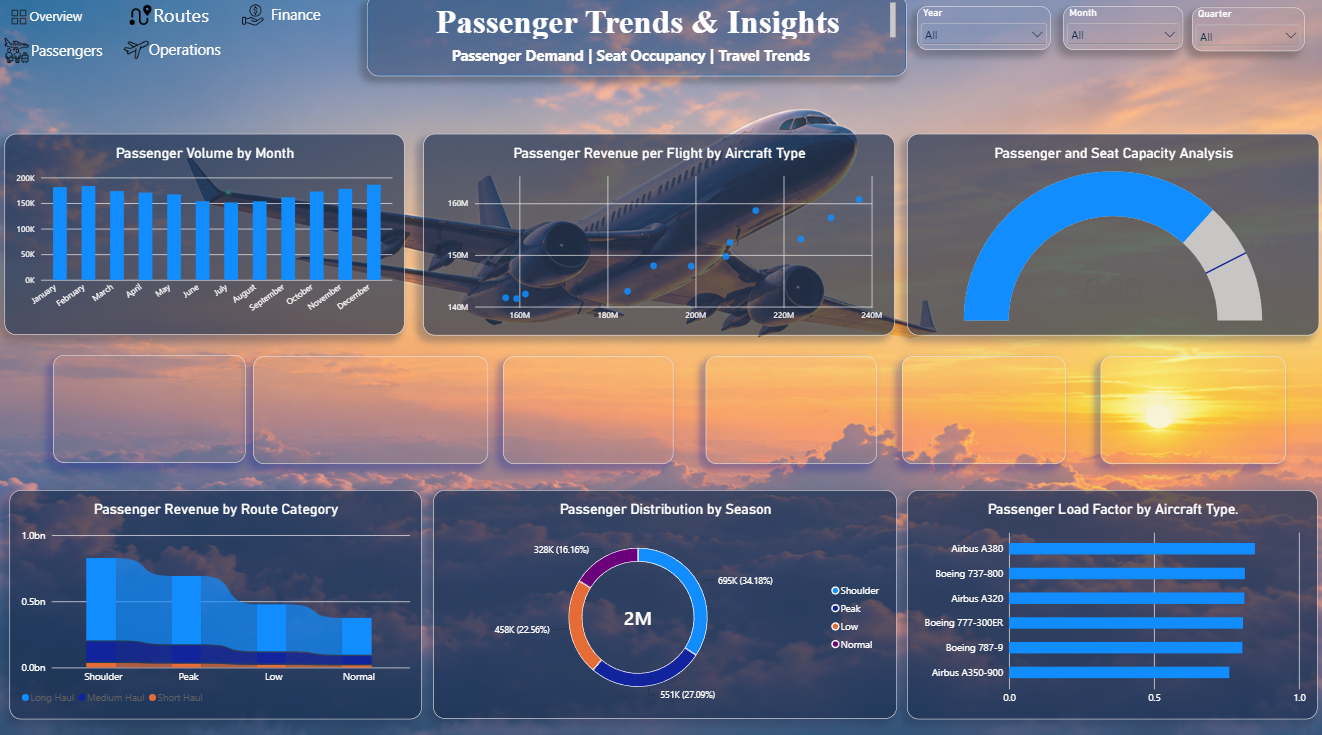

The page's visual inventory and layout, read from the dashboard file:
{"tool":"powerbi","page":{"name":"Passenger Trends & Insights","canvas":[1920,1080],"ordinal":3},"visuals":[{"type":"ribbonChart","title":"Passenger Revenue by Route Category","fields":{"Category":["airline_route_profitability_cleaned.Season"],"Series":["route_details.Route_Category"],"Y":["Sum(airline_route_profitability_cleaned.Total_Revenue)"]},"box":[18.8,715.8,596.9,331.8],"z":0},{"type":"donutChart","title":"Passenger Distribution by Season","fields":{"Category":["airline_route_profitability_cleaned.Season"],"Series":["airline_route_profitability_cleaned.Season"],"Y":["Sum(airline_route_profitability_cleaned.Passengers)"]},"box":[631.6,716.6,671.4,331.2],"z":1000},{"type":"clusteredBarChart","title":"Passenger Load Factor by Aircraft Type.","fields":{"Category":["airline_route_profitability_cleaned.Aircraft_Type"],"Y":["calculation_tbl.Avg_load_factor"]},"box":[1316.9,715.8,594.8,331.8],"z":2000},{"type":"cardVisual","fields":{"Data":["calculation_tbl.Avg Passengers per Flight"]},"box":[371,523,340.2,155.6],"z":3000},{"type":"cardVisual","fields":{"Data":["Passenger Revenue.Available Seats"]},"box":[1310.6,523.8,237.1,155.6],"z":4000},{"type":"cardVisual","fields":{"Data":["calculation_tbl.Total Capacity"]},"box":[1026.8,523.8,247.9,155.6],"z":5000},{"type":"cardVisual","fields":{"Data":["calculation_tbl.avg_load_factor"]},"box":[732.5,523.8,246.1,155.6],"z":6000},{"type":"cardVisual","fields":{"Data":["Passenger Revenue.Passenger Revenue"]},"box":[1597.9,523,267.8,155.6],"z":7000},{"type":"shape","box":[535.7,0,781.8,117.6],"z":8000},{"type":"textbox","box":[561,10.9,740.2,52.5],"z":9000},{"type":"textbox","box":[649.7,72.4,535.7,34.4],"z":10000},{"type":"clusteredColumnChart","title":"Passenger Volume by Month","fields":{"Category":["Dim_Date.Flight_Date.Variation.Date Hierarchy.Month"],"Y":["calculation_tbl.Total passengers"]},"box":[10.9,200.9,579.1,291.4],"z":11000},{"type":"gauge","title":"Passenger and Seat Capacity Analysis","fields":{"Y":["calculation_tbl.Seat Utilization %"]},"box":[1316.9,200.3,596.9,292.2],"z":12000},{"type":"cardVisual","fields":{"Data":["calculation_tbl.total_passengers"]},"box":[81.4,521.7,278.7,155.6],"z":13000},{"type":"scatterChart","title":"Passenger Revenue per Flight by Aircraft Type","fields":{"Category":["Dim_Date.Month"],"X":["calculation_tbl.total_revenue_"],"Y":["calculation_tbl.total_cost"]},"box":[617.7,200.3,682.4,292.2],"z":14000},{"type":"slicer","fields":{"Values":["Dim_Date.Year"]},"box":[1331.9,16.3,193.6,63.3],"z":15000},{"type":"slicer","fields":{"Values":["Dim_Date.Month"]},"box":[1543.6,16.3,173.7,63.3],"z":16000},{"type":"slicer","fields":{"Values":["Dim_Date.Quarter"]},"box":[1730,18.1,162.9,63.3],"z":17000},{"type":"actionButton","box":[169,10.6,169,36.1],"z":18000},{"type":"actionButton","box":[16.7,12.8,133.6,38.3],"z":19000},{"type":"textbox","box":[47.1,18.1,85.6,34],"z":20000},{"type":"actionButton","box":[175.5,57.9,173.7,90.5],"z":21000},{"type":"actionButton","box":[10.4,63.8,139.8,48.9],"z":22000},{"type":"textbox","box":[168.3,10.9,152.3,36.1],"z":23000},{"type":"image","box":[187.8,10.6,39.7,36.1],"z":24000},{"type":"textbox","box":[367.4,12.7,129.4,38.3],"z":25000},{"type":"image","box":[352.7,0,35.5,57.4],"z":26000},{"type":"textbox","box":[19.9,65.1,141.9,31.9],"z":27000},{"type":"image","box":[10.4,55.3,35.5,48.9],"z":28000},{"type":"textbox","box":[208.1,63.3,119,34],"z":29000},{"type":"image","box":[175.5,61.5,52.5,36.2],"z":30000},{"type":"image","box":[2.1,17,59.7,31.3],"z":31000}]}

Visuals, with their boxes on the page's 1920x1080 design canvas (x1, y1, x2, y2). These are canvas units, not pixel positions in the 1322x735 screenshot, which may show the page scaled, cropped or inside an application window:
"Passenger Revenue by Route Category" ribbonChart: left=19, top=716, right=616, bottom=1048
"Passenger Distribution by Season" donutChart: left=632, top=717, right=1303, bottom=1048
"Passenger Load Factor by Aircraft Type." clusteredBarChart: left=1317, top=716, right=1912, bottom=1048
cardVisual - calculation_tbl.Avg Passengers per Flight: left=371, top=523, right=711, bottom=679
cardVisual - Passenger Revenue.Available Seats: left=1311, top=524, right=1548, bottom=679
cardVisual - calculation_tbl.Total Capacity: left=1027, top=524, right=1275, bottom=679
cardVisual - calculation_tbl.avg_load_factor: left=732, top=524, right=979, bottom=679
cardVisual - Passenger Revenue.Passenger Revenue: left=1598, top=523, right=1866, bottom=679
shape: left=536, top=0, right=1318, bottom=118
textbox: left=561, top=11, right=1301, bottom=63
textbox: left=650, top=72, right=1185, bottom=107
"Passenger Volume by Month" clusteredColumnChart: left=11, top=201, right=590, bottom=492
"Passenger and Seat Capacity Analysis" gauge: left=1317, top=200, right=1914, bottom=492
cardVisual - calculation_tbl.total_passengers: left=81, top=522, right=360, bottom=677
"Passenger Revenue per Flight by Aircraft Type" scatterChart: left=618, top=200, right=1300, bottom=492
slicer - Dim_Date.Year: left=1332, top=16, right=1526, bottom=80
slicer - Dim_Date.Month: left=1544, top=16, right=1717, bottom=80
slicer - Dim_Date.Quarter: left=1730, top=18, right=1893, bottom=81
actionButton: left=169, top=11, right=338, bottom=47
actionButton: left=17, top=13, right=150, bottom=51
textbox: left=47, top=18, right=133, bottom=52
actionButton: left=176, top=58, right=349, bottom=148
actionButton: left=10, top=64, right=150, bottom=113
textbox: left=168, top=11, right=321, bottom=47
image: left=188, top=11, right=228, bottom=47
textbox: left=367, top=13, right=497, bottom=51
image: left=353, top=0, right=388, bottom=57
textbox: left=20, top=65, right=162, bottom=97
image: left=10, top=55, right=46, bottom=104
textbox: left=208, top=63, right=327, bottom=97
image: left=176, top=62, right=228, bottom=98
image: left=2, top=17, right=62, bottom=48
